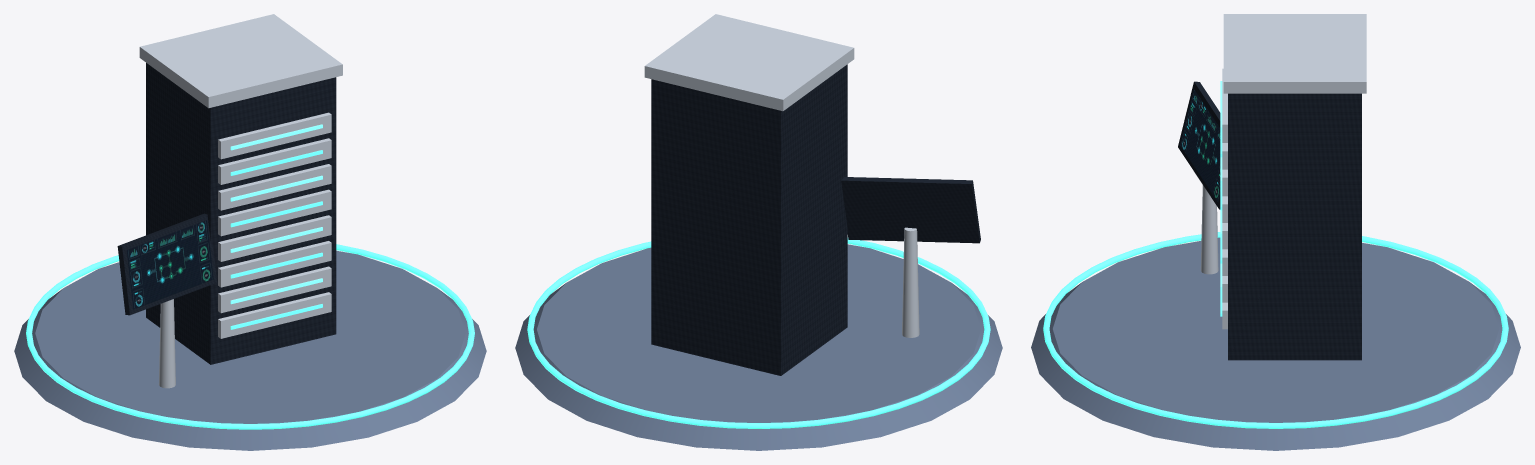
Rendered from uplanner-datacenter.glb.
3 renders of one model, left to right at view 1: azimuth 30°, elevation 25°; view 2: azimuth 150°, elevation 25°; view 3: azimuth 270°, elevation 25°, orthographic. The views are drawn at different scales.
Visible parts, largest first — view 1: up_plinth, up_rack_body, up_rack_top, up_ring, up_console_screen, up_blade_1, up_blade_5, up_blade_3, up_blade_7, up_blade_0, up_blade_2, up_blade_4 (+3 smaller); view 2: up_plinth, up_rack_body, up_rack_top, up_console_frame, up_ring, up_console_post; view 3: up_plinth, up_rack_body, up_rack_top, up_ring, up_console_screen, up_console_post, up_console_frame.
Boxes of the visible parts, bbox=[...] form: up_plinth: bbox=[14, 250, 486, 450]; up_rack_body: bbox=[146, 63, 336, 364]; up_rack_top: bbox=[139, 14, 342, 108]; up_ring: bbox=[26, 244, 474, 429]; up_console_screen: bbox=[126, 220, 213, 309]; up_blade_1: bbox=[218, 266, 331, 313]; up_blade_5: bbox=[218, 164, 331, 210]; up_blade_3: bbox=[218, 215, 331, 261]; up_blade_7: bbox=[218, 112, 331, 159]; up_blade_0: bbox=[218, 292, 331, 338]; up_blade_2: bbox=[218, 241, 331, 287]; up_blade_4: bbox=[218, 189, 331, 236]; up_plinth: bbox=[515, 244, 1002, 450]; up_rack_body: bbox=[651, 64, 847, 375]; up_rack_top: bbox=[644, 14, 854, 111]; up_console_frame: bbox=[841, 177, 980, 243]; up_ring: bbox=[527, 238, 990, 428]; up_console_post: bbox=[902, 227, 919, 337]; up_plinth: bbox=[1031, 237, 1520, 450]; up_rack_body: bbox=[1228, 93, 1361, 360]; up_rack_top: bbox=[1223, 14, 1366, 93]; up_ring: bbox=[1043, 232, 1508, 428]; up_console_screen: bbox=[1180, 89, 1220, 202]; up_console_post: bbox=[1200, 185, 1218, 274]; up_console_frame: bbox=[1178, 81, 1220, 209].
Bounding box in the file's own units: 3.84 × 2.59 × 3.84.
6 materials, 2 textured.
